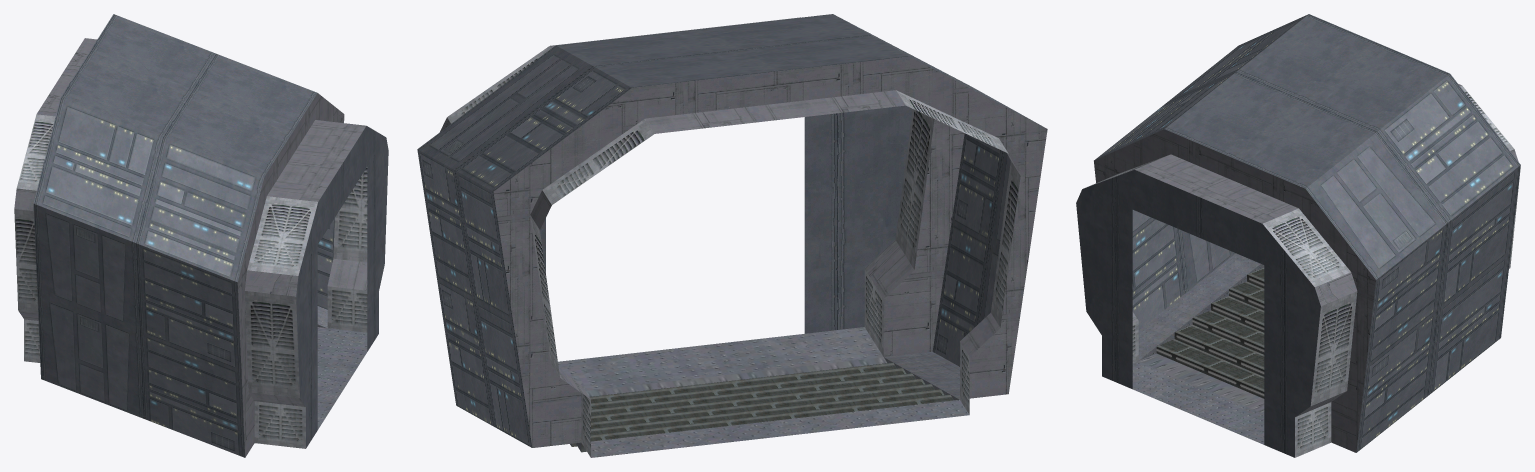
The model's file is mun_tato_starport_s01_u01_r11_ticket4_mesh_r11.fbx.
3 renders of one model, left to right at view 1: azimuth 30°, elevation 25°; view 2: azimuth 150°, elevation 25°; view 3: azimuth 270°, elevation 25°, orthographic. The views are drawn at different scales.
Visible parts, largest first — view 1: mesh_node; view 2: mesh_node; view 3: mesh_node.
Boxes of the visible parts, x1,y1,x2,y2 form: mesh_node: (14, 14, 388, 457); mesh_node: (417, 14, 1047, 457); mesh_node: (1076, 14, 1520, 457).
Size of the model in its own units: 7.47 by 5.5 by 7.47.
